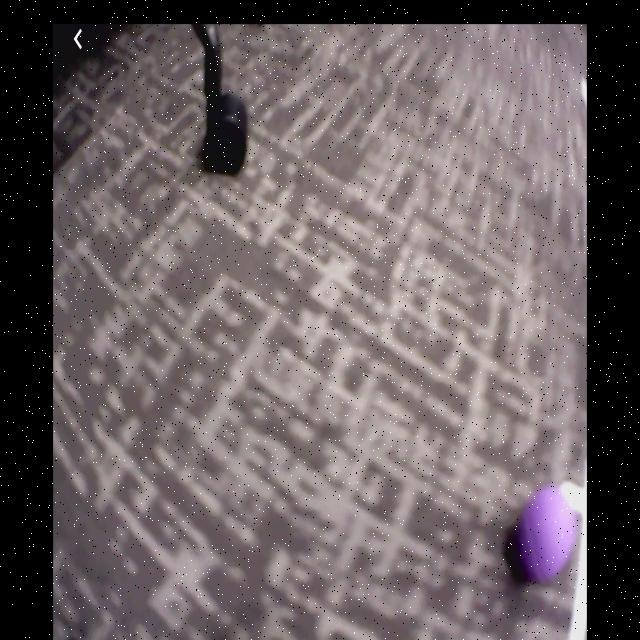ball: (504, 483, 582, 587)
